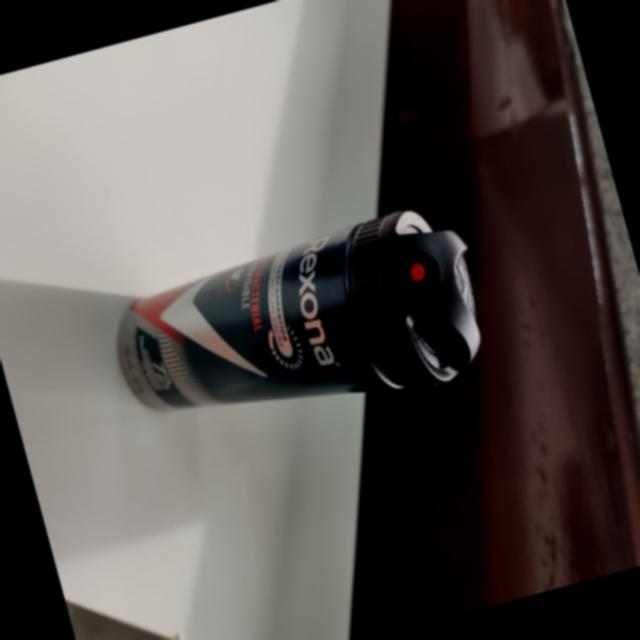Desodorante Azul: (118, 197, 482, 444)
